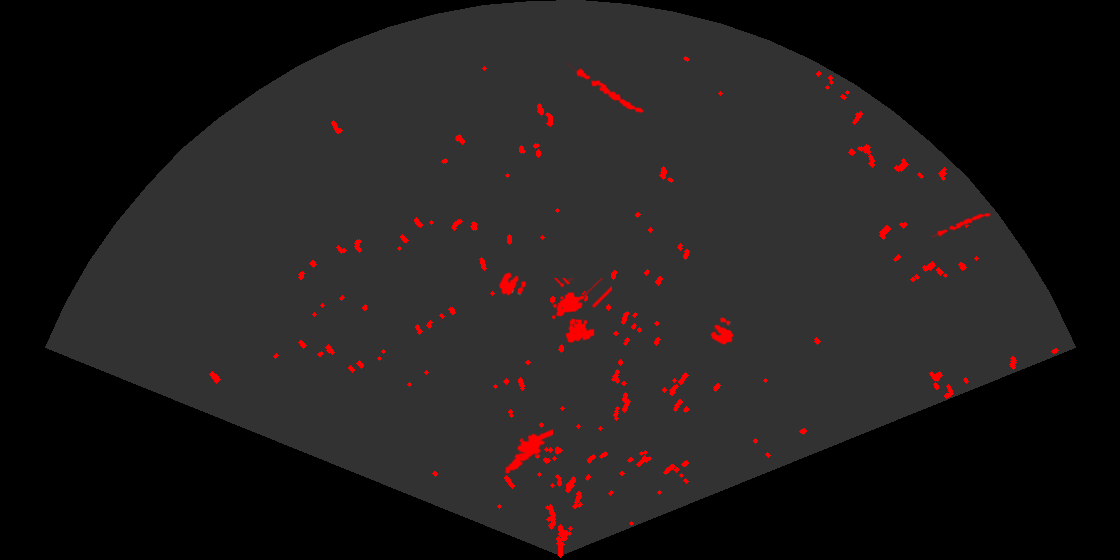ball: (497, 270, 528, 297), (709, 316, 735, 346)
cage: (550, 278, 612, 344)
chain: (566, 62, 645, 115), (932, 211, 993, 240)
frogman: (494, 427, 553, 477)
